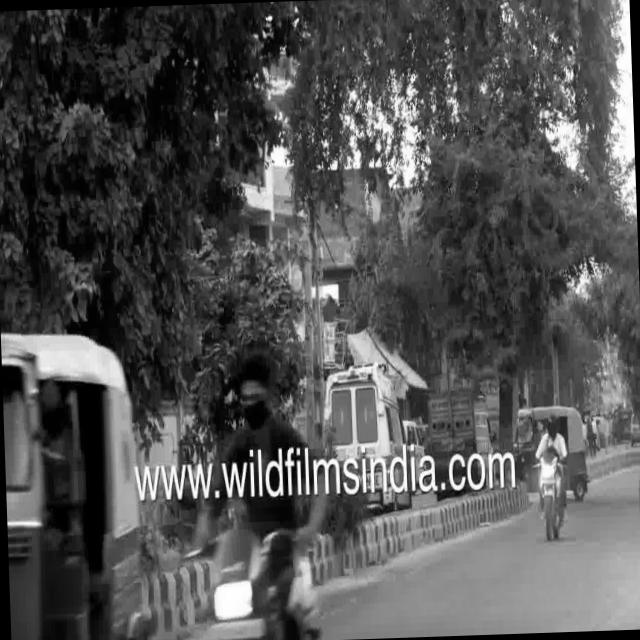ambulance: (324, 354, 407, 436)
